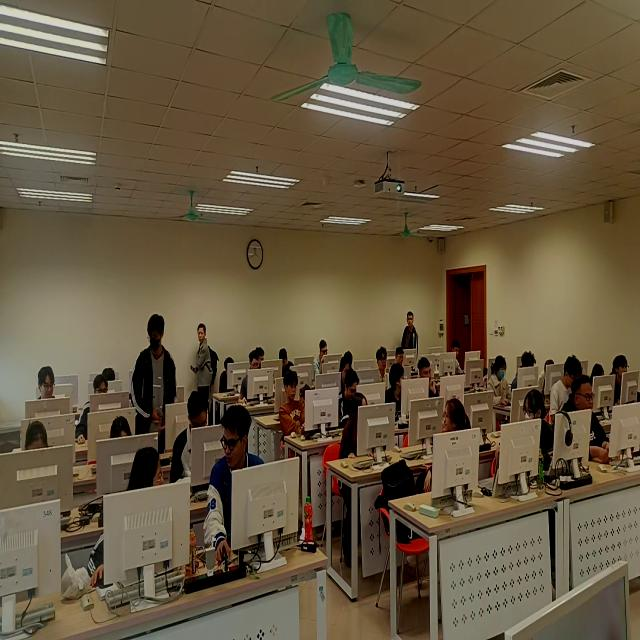raise_head: (559, 376, 613, 466), (375, 344, 389, 386)
stand: (130, 310, 175, 437), (187, 315, 220, 407), (401, 305, 420, 363)
using_computer: (170, 390, 213, 493), (78, 367, 108, 451), (550, 351, 582, 423), (281, 369, 310, 436), (341, 389, 367, 463), (487, 356, 513, 407), (241, 350, 262, 406), (338, 371, 359, 426), (611, 349, 630, 409), (512, 352, 538, 393), (22, 417, 50, 454), (418, 355, 440, 399), (107, 411, 133, 446), (36, 359, 56, 403), (313, 338, 330, 380), (219, 353, 236, 394), (451, 340, 466, 374), (281, 345, 296, 378), (589, 362, 607, 389), (340, 356, 352, 388), (104, 364, 117, 384)
